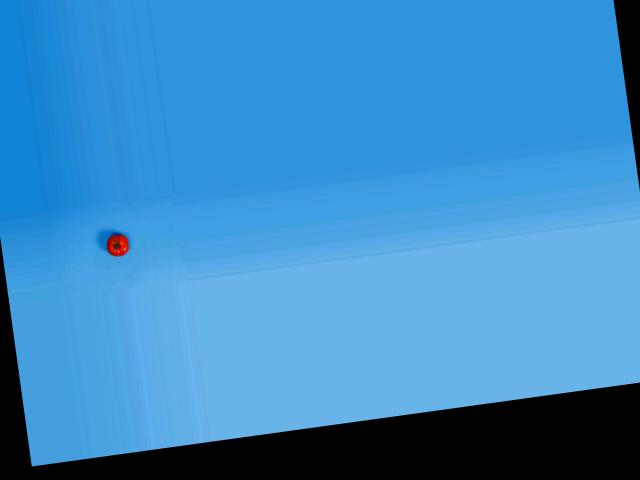tomato: (104, 233, 129, 258)
